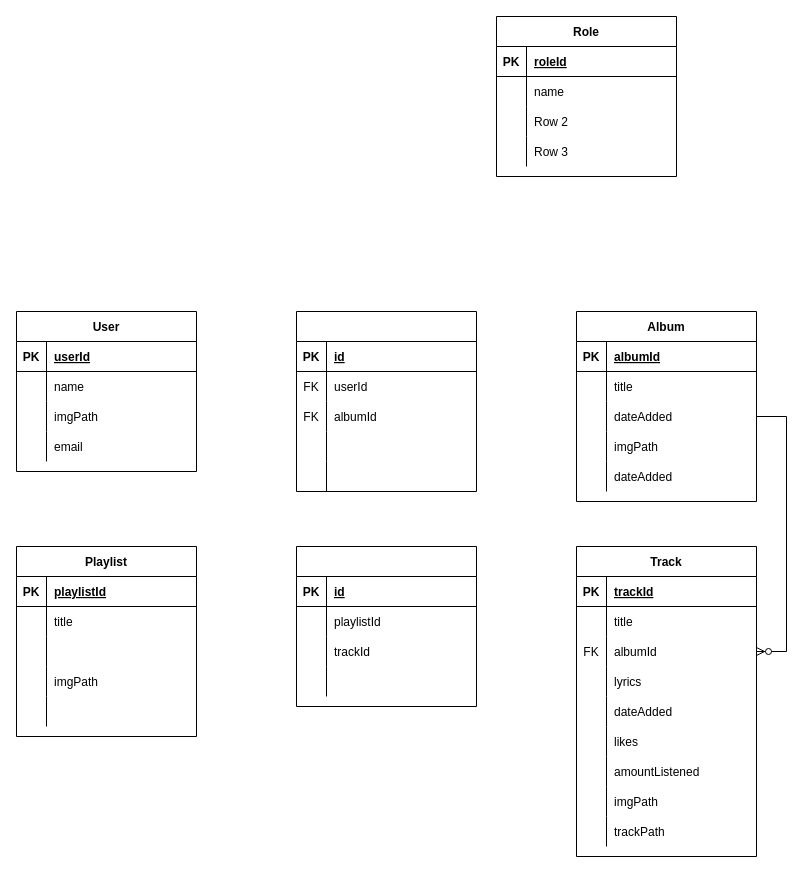
The diagram is 803 pixels wide and 873 high, and some of its shapes have lost their labels. Each missing label, with the box of its shape:
Author_Album: (296, 310, 476, 492)
Playlist_Track: (296, 546, 476, 706)
